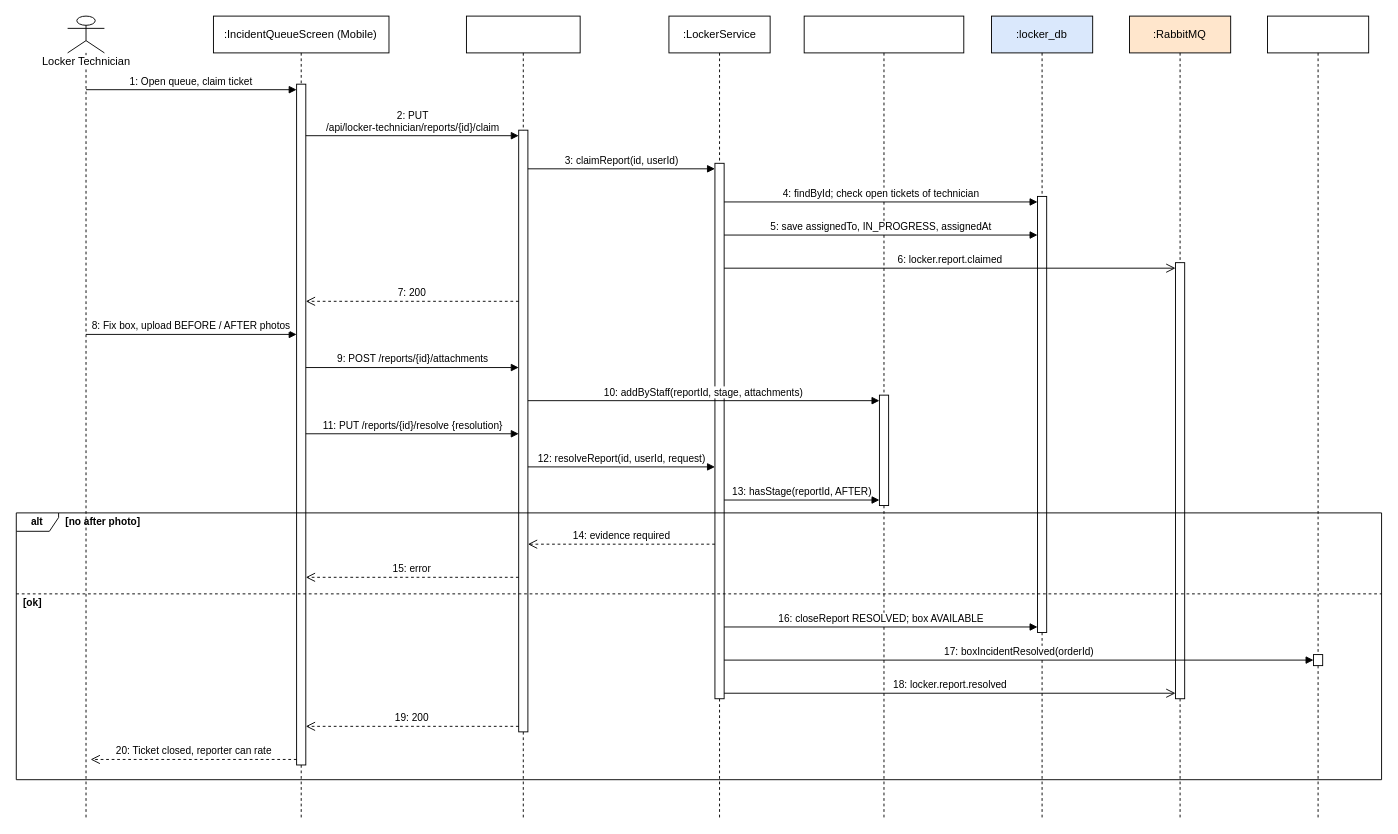
This 1398x834 diagram has some shape labels left out. Here are the shapes that lost their labels. From the top down, the box of each, then its label:
(466, 15, 580, 818): :LockerController
(803, 15, 964, 818): :ReportAttachmentService
(1267, 15, 1369, 818): :OrderClient
